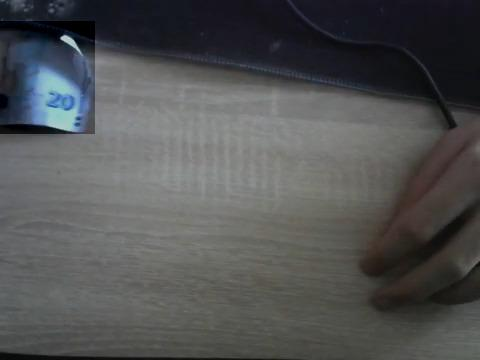20leva: (0, 21, 95, 134)
